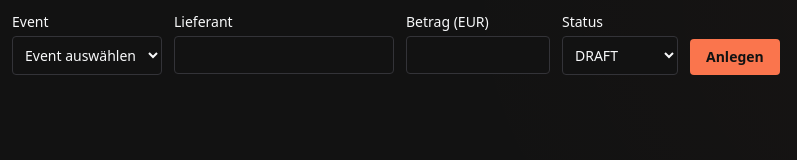
Test: creates an invoice with an exact amount and shows confirmation
Select "Chapter Four" in the dropdown labelled "Event". click: (87, 56)
box: x1=12 y1=36 x2=162 y2=75
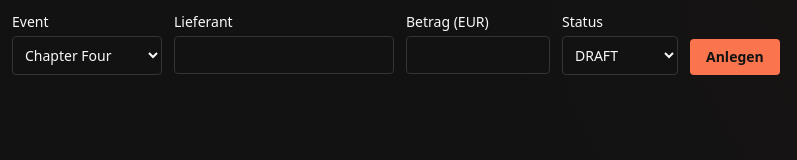
Type "Security" into the field labelled "Lieferant". click: (284, 55)
box: x1=174 y1=36 x2=394 y2=74
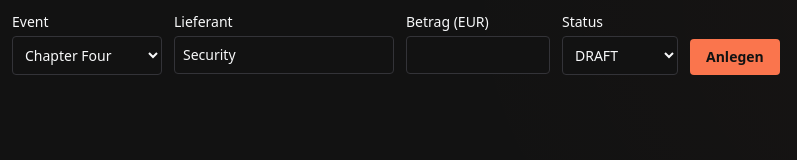
Type "12.34" into the number field labelled "Betrag (EUR)". click: (478, 55)
box: x1=406 y1=36 x2=550 y2=74
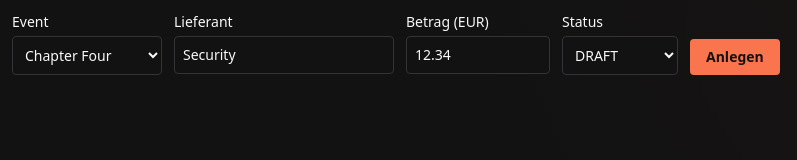
Click the button "Anlegen". click: (735, 57)
box: x1=690 y1=39 x2=780 y2=75
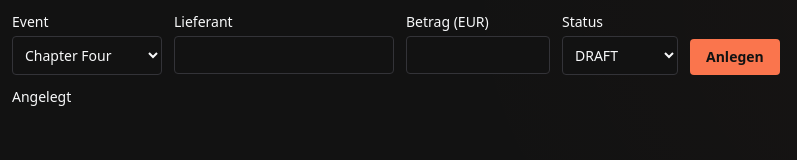
Expected: the text "Angelegt" is shown, x1=12 y1=87 x2=71 y2=106
